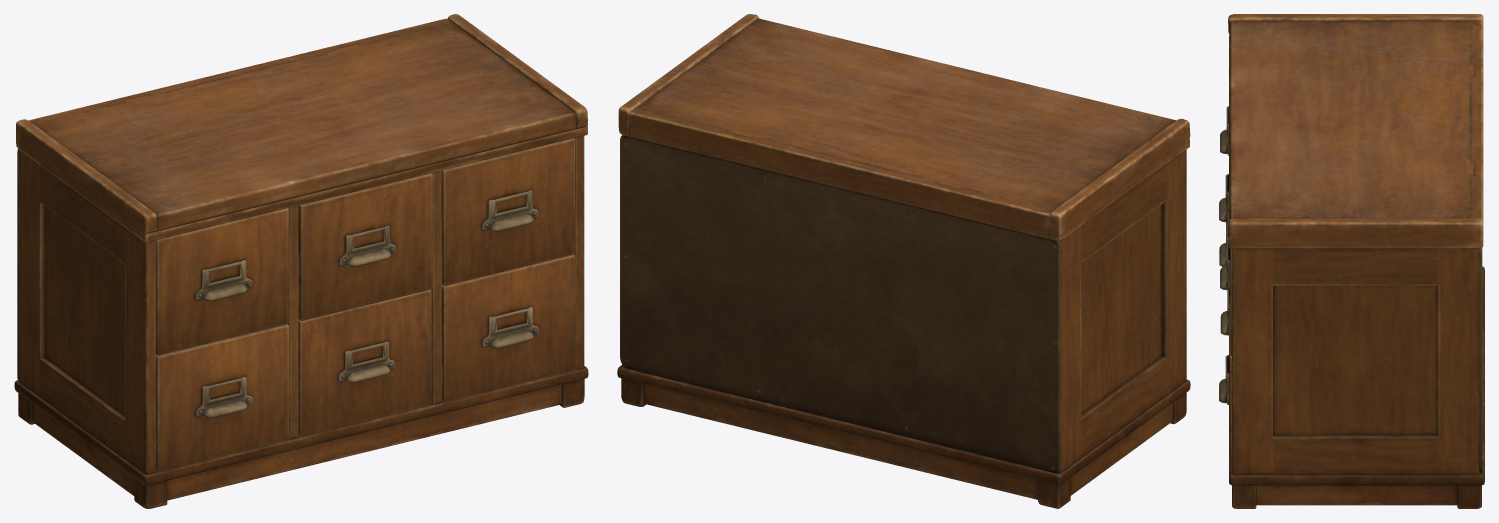
Rendered from vintage_wooden_drawer_01.glb.
3 renders of one model, left to right at view 1: azimuth 30°, elevation 25°; view 2: azimuth 150°, elevation 25°; view 3: azimuth 270°, elevation 25°, orthographic. The views are drawn at different scales.
Visible parts, largest first — view 1: vintage_wooden_drawer_01_body, vintage_wooden_drawer_01_drawer06, vintage_wooden_drawer_01_drawer02, vintage_wooden_drawer_01_drawer04, vintage_wooden_drawer_01_drawer03, vintage_wooden_drawer_01_drawer01, vintage_wooden_drawer_01_drawer05; view 2: vintage_wooden_drawer_01_body; view 3: vintage_wooden_drawer_01_body, vintage_wooden_drawer_01_drawer06, vintage_wooden_drawer_01_drawer03, vintage_wooden_drawer_01_drawer02.
Part boxes in pixels (x1,y1,x2,y2): vintage_wooden_drawer_01_body: (14,14,588,508); vintage_wooden_drawer_01_drawer06: (441,254,575,402); vintage_wooden_drawer_01_drawer02: (298,173,432,320); vintage_wooden_drawer_01_drawer04: (155,324,288,472); vintage_wooden_drawer_01_drawer03: (441,138,574,285); vintage_wooden_drawer_01_drawer01: (155,208,288,355); vintage_wooden_drawer_01_drawer05: (298,289,431,436); vintage_wooden_drawer_01_body: (617,14,1190,508); vintage_wooden_drawer_01_body: (1228,14,1484,508); vintage_wooden_drawer_01_drawer06: (1219,295,1231,469); vintage_wooden_drawer_01_drawer03: (1220,242,1231,355); vintage_wooden_drawer_01_drawer02: (1219,174,1228,223).
Size of the model in its own units: 0.8576 by 0.5454 by 0.4574.
1 material, 1 textured.
